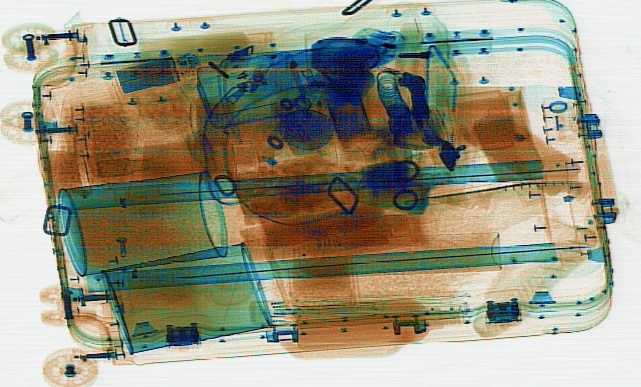pressure: (269, 227, 502, 277)
